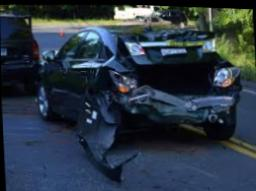Bumper: (111, 85, 237, 122)
Dickey: (137, 53, 219, 96)
Light: (211, 62, 246, 87), (110, 68, 135, 91)
